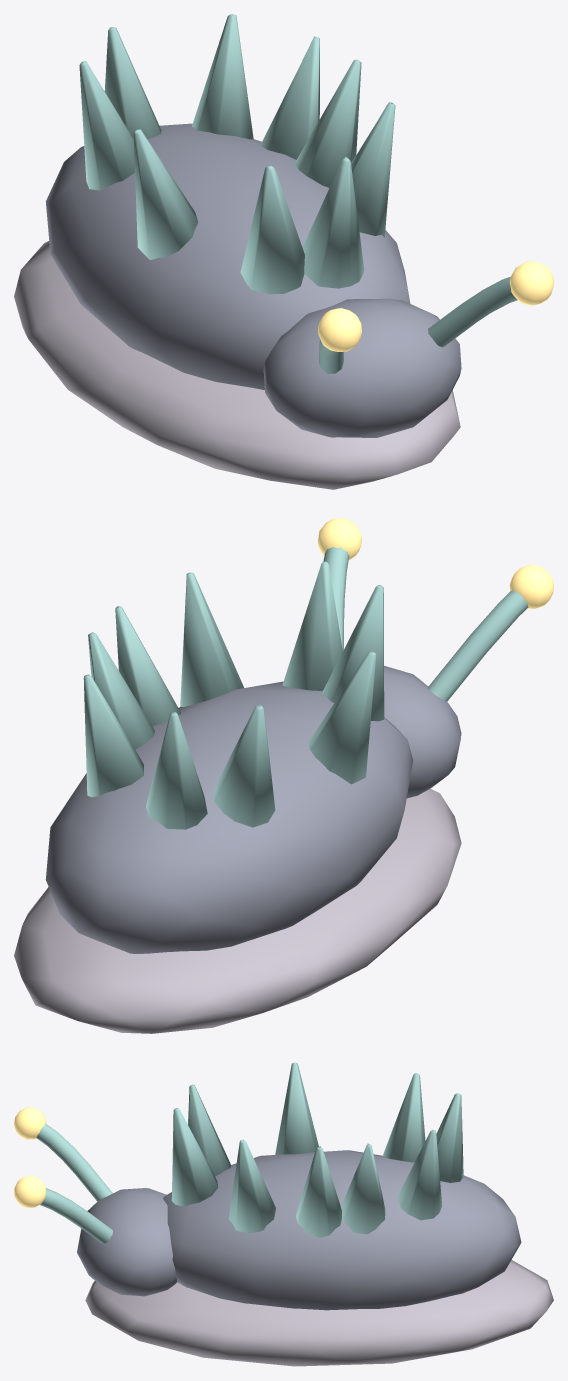
The model's file is bio_slug_21_far.glb.
The picture shows the model from 3 angles, top to bottom: view 1: azimuth 30°, elevation 25°; view 2: azimuth 150°, elevation 25°; view 3: azimuth 270°, elevation 25°; orthographic projection. The views are drawn at different scales.
Visible parts, largest first — view 1: Soft mantle, Respiratory ceras, Mucosal foot, Cranium, Tentacle eye, Sensory tentacle; view 2: Soft mantle, Mucosal foot, Respiratory ceras, Cranium, Sensory tentacle, Tentacle eye; view 3: Soft mantle, Mucosal foot, Respiratory ceras, Cranium, Sensory tentacle, Tentacle eye.
Boxes of the visible parts, x1,y1,x2,y2 form: Soft mantle: (45, 123, 410, 389); Respiratory ceras: (79, 14, 395, 294); Mucosal foot: (14, 241, 460, 489); Cranium: (263, 298, 461, 437); Tentacle eye: (318, 261, 553, 351); Sensory tentacle: (319, 276, 517, 373); Soft mantle: (45, 681, 413, 953); Mucosal foot: (14, 788, 461, 1033); Respiratory ceras: (83, 561, 384, 829); Cranium: (384, 665, 461, 798); Sensory tentacle: (323, 547, 528, 701); Tentacle eye: (318, 518, 553, 608); Soft mantle: (163, 1150, 521, 1310); Mucosal foot: (85, 1260, 553, 1366); Respiratory ceras: (171, 1062, 463, 1237); Cranium: (77, 1188, 177, 1296); Sensory tentacle: (36, 1123, 112, 1243); Tentacle eye: (14, 1107, 46, 1207).
Size of the model in its own units: 1.3 by 1.27 by 2.67.
